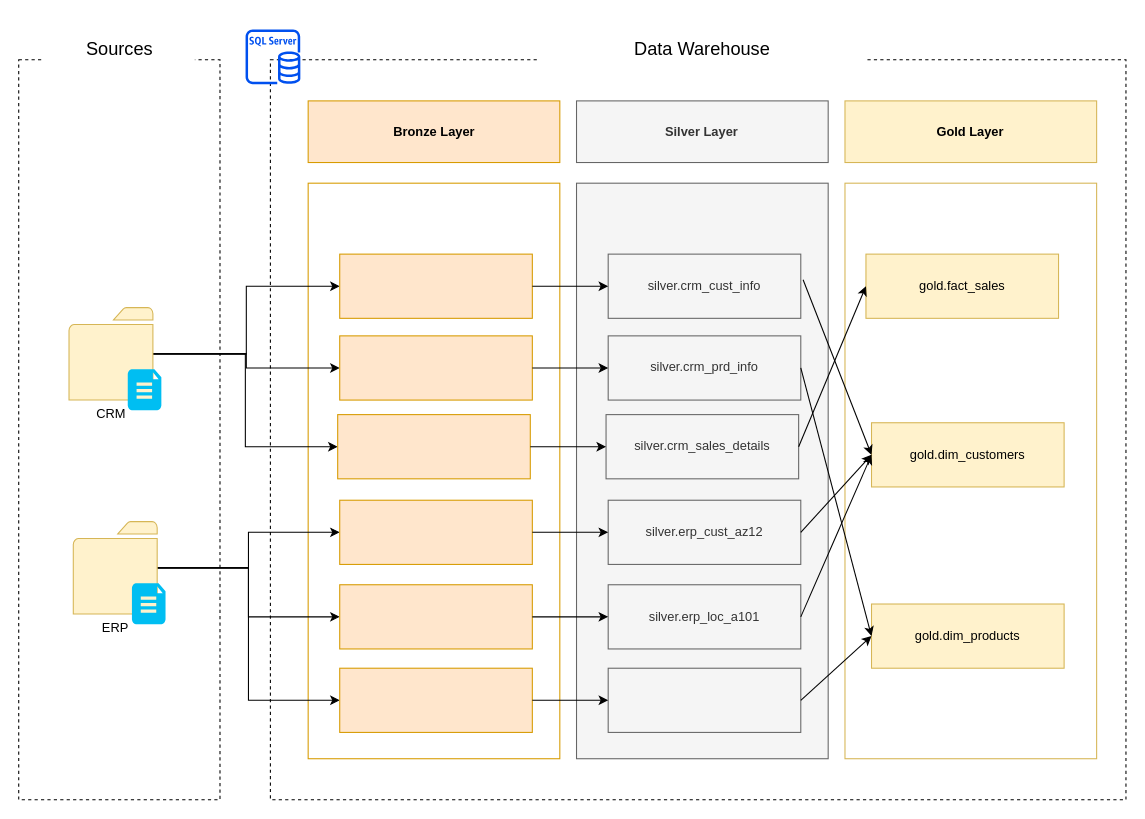
This 1145x819 diagram has some shape labels left out. The centre of each missing label's shape, as x and y in pixels:
bronze.crm_cust_info: (435,285)
bronze.crm_prd_info: (435,367)
bronze.crm_sales_details: (433,446)
bronze.erp_cust_az12: (435,531)
bronze.erp_loc_a101: (435,616)
bronze.erp_px_cat_g1v2: (435,699)
silver.erp_px_cat_g1v2: (704,699)
